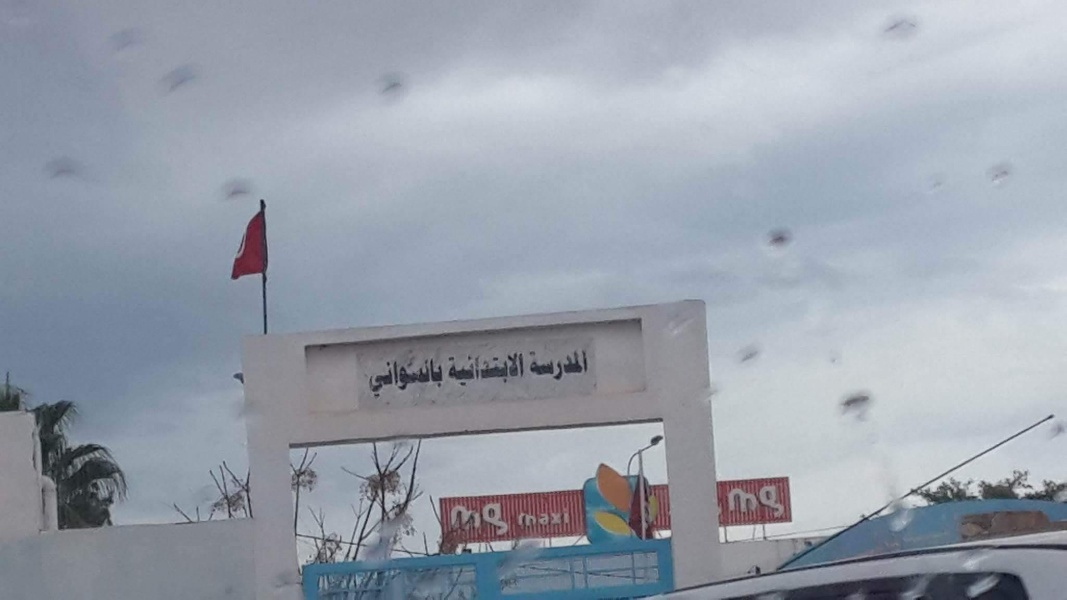text: (369, 355, 384, 400), (385, 355, 400, 400), (401, 355, 416, 400), (417, 355, 432, 400), (433, 355, 448, 400), (449, 351, 464, 390), (465, 351, 480, 390), (481, 351, 496, 390), (497, 351, 512, 390), (737, 482, 752, 521), (753, 482, 768, 521), (769, 482, 784, 521), (529, 346, 544, 384), (545, 346, 560, 384), (561, 346, 576, 384), (577, 346, 591, 384), (449, 502, 464, 536), (465, 502, 480, 536), (481, 502, 496, 536), (513, 351, 526, 390), (497, 502, 511, 536), (725, 482, 736, 521), (529, 508, 544, 530), (545, 508, 560, 530), (561, 508, 575, 530), (518, 508, 528, 530), (785, 482, 789, 521), (366, 355, 368, 400), (446, 351, 448, 390), (446, 502, 448, 536)
